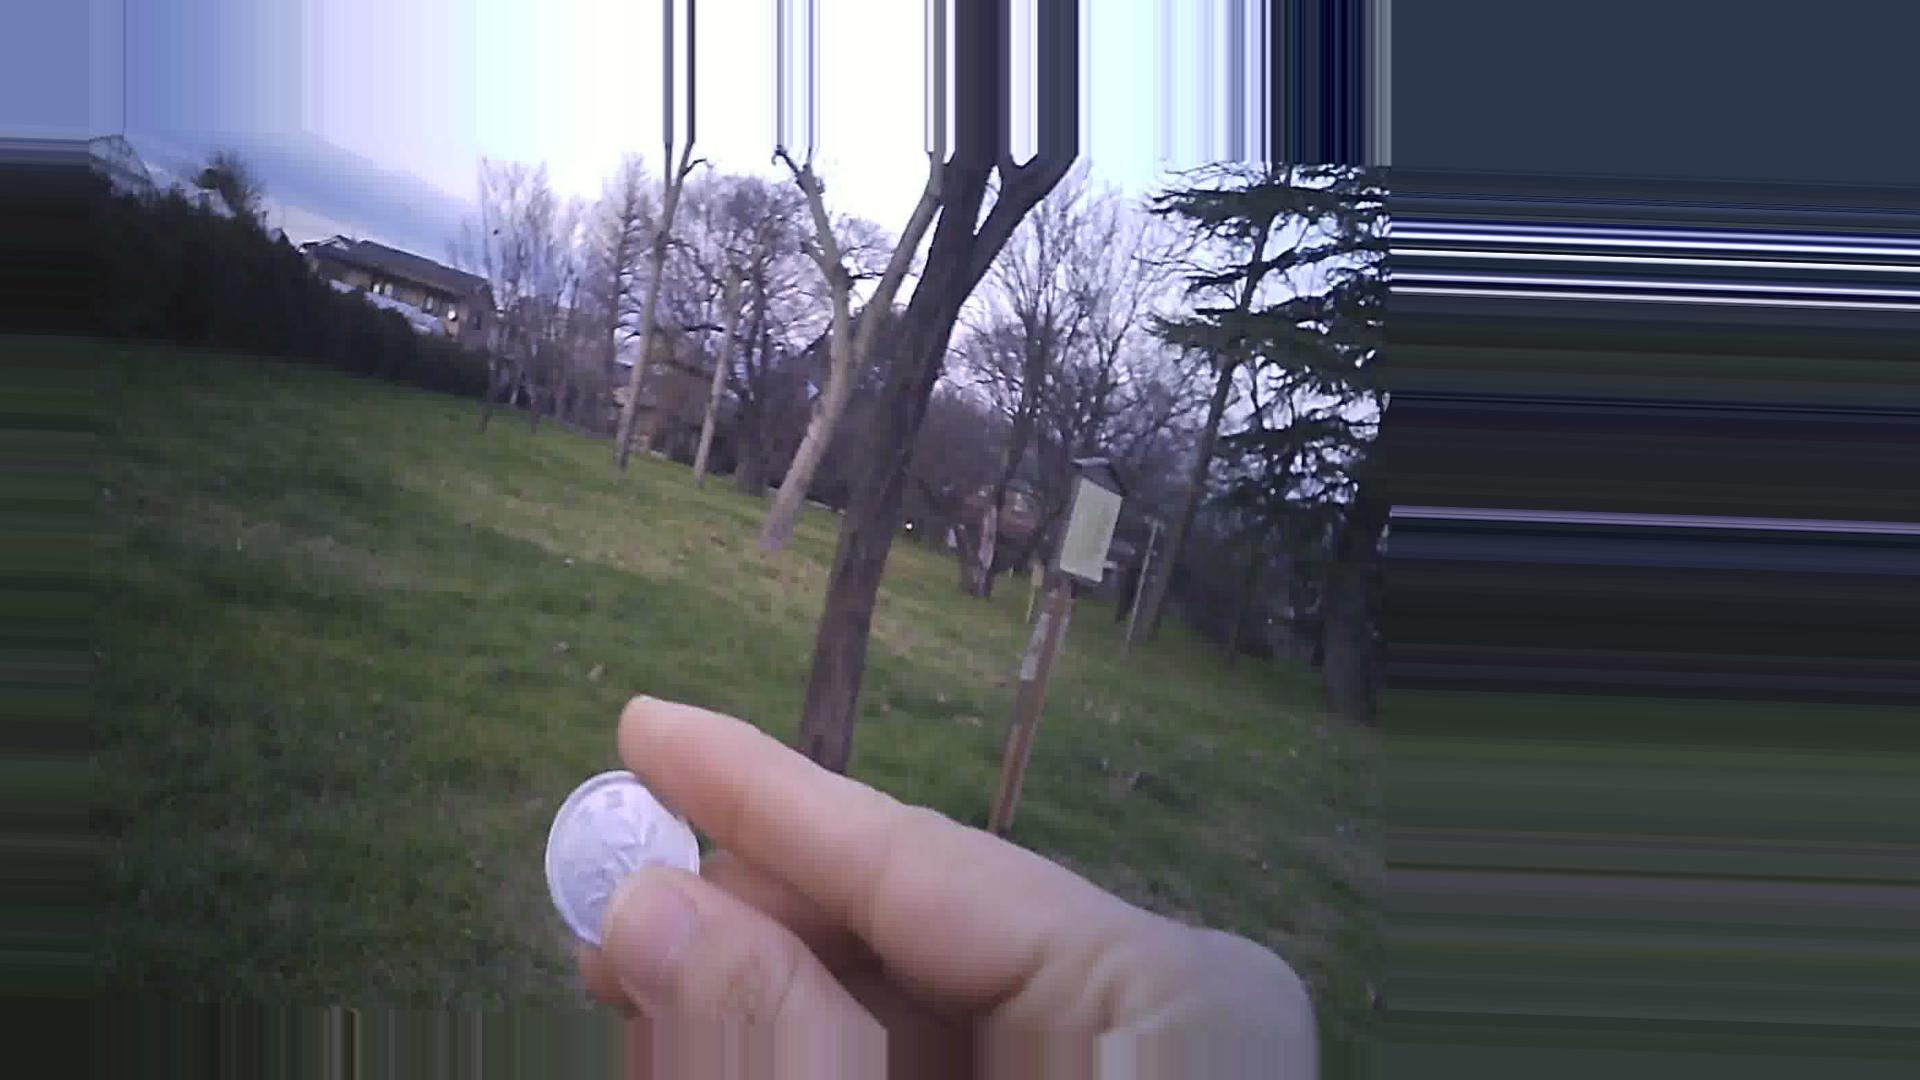1 Yen: (512, 765, 698, 940)
